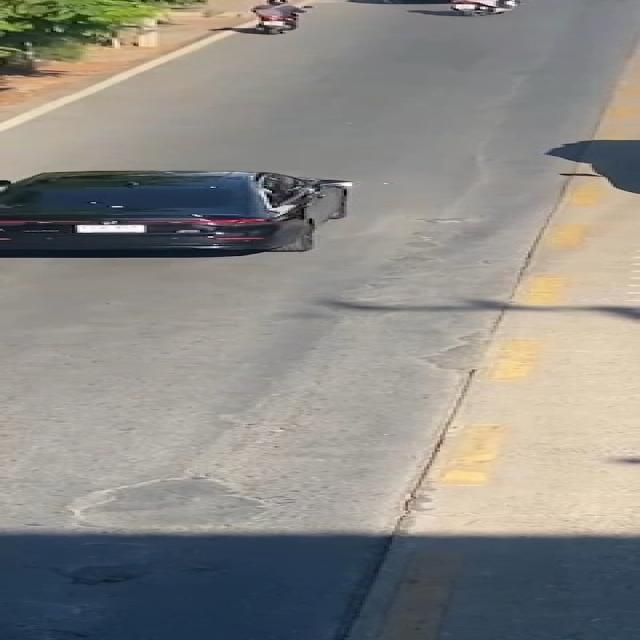car: (0, 157, 403, 270)
